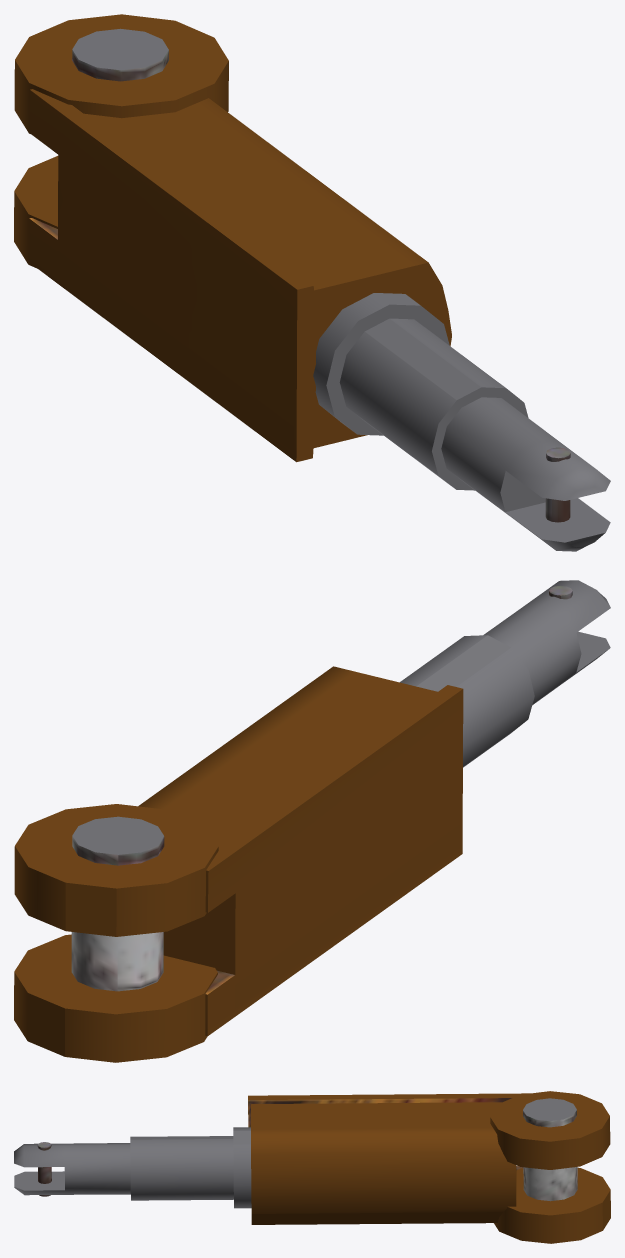
The model's file is handB.obj.
3 renders of one model, top to bottom at view 1: azimuth 30°, elevation 25°; view 2: azimuth 150°, elevation 25°; view 3: azimuth 270°, elevation 25°, orthographic. The views are drawn at different scales.
Parts seen in each view (by area): view 1: handB:hand_lowpolySurface397polySurface46, handB:hand_lowpolySurface397polySurface38, handB:hand_lowpolySurface397polySurface43, handB:hand_lowpolySurface397polySurface33, handB:hand_lowpolySurface397polySurface39, handB:hand_lowpolySurface397polySurface50, handB:hand_lowpolySurface397polySurface51, handB:hand_lowpolySurface397polySurface37, handB:hand_lowpolySurface397polySurface35, handB:hand_lowpolySurface397polySurface10, handB:hand_lowpolySurface397polySurface16, handB:hand_lowpolySurface397polySurface9 (+6 smaller); view 2: handB:hand_lowpolySurface397polySurface46, handB:hand_lowpolySurface397polySurface38, handB:hand_lowpolySurface397polySurface39, handB:hand_lowpolySurface397polySurface37, handB:hand_lowpolySurface397polySurface29, handB:hand_lowpolySurface397polySurface43, handB:hand_lowpolySurface397polySurface41, handB:hand_lowpolySurface397polySurface33, handB:hand_lowpolySurface397polySurface5, handB:hand_lowpolySurface397polySurface51, handB:hand_lowpolySurface397polySurface48, handB:hand_lowpolySurface397polySurface16 (+1 smaller); view 3: handB:hand_lowpolySurface397polySurface38, handB:hand_lowpolySurface397polySurface43, handB:hand_lowpolySurface397polySurface33, handB:hand_lowpolySurface397polySurface39, handB:hand_lowpolySurface397polySurface37, handB:hand_lowpolySurface397polySurface29, handB:hand_lowpolySurface397polySurface41, handB:hand_lowpolySurface397polySurface5, handB:hand_lowpolySurface397polySurface9, handB:hand_lowpolySurface397polySurface51, handB:hand_lowpolySurface397polySurface8, handB:hand_lowpolySurface397polySurface16 (+2 smaller).
Part boxes in pixels (x1,y1,x2,y2): handB:hand_lowpolySurface397polySurface46: [29, 90, 297, 461]; handB:hand_lowpolySurface397polySurface38: [84, 98, 428, 290]; handB:hand_lowpolySurface397polySurface43: [339, 318, 505, 485]; handB:hand_lowpolySurface397polySurface33: [441, 397, 610, 551]; handB:hand_lowpolySurface397polySurface39: [15, 14, 228, 106]; handB:hand_lowpolySurface397polySurface50: [313, 262, 451, 447]; handB:hand_lowpolySurface397polySurface51: [30, 89, 313, 289]; handB:hand_lowpolySurface397polySurface37: [14, 60, 228, 133]; handB:hand_lowpolySurface397polySurface35: [296, 286, 315, 462]; handB:hand_lowpolySurface397polySurface10: [326, 304, 449, 435]; handB:hand_lowpolySurface397polySurface16: [72, 28, 168, 70]; handB:hand_lowpolySurface397polySurface9: [313, 293, 420, 431]; handB:hand_lowpolySurface397polySurface46: [207, 689, 463, 1035]; handB:hand_lowpolySurface397polySurface38: [138, 666, 437, 1036]; handB:hand_lowpolySurface397polySurface39: [15, 804, 218, 888]; handB:hand_lowpolySurface397polySurface37: [14, 846, 218, 936]; handB:hand_lowpolySurface397polySurface29: [14, 972, 217, 1062]; handB:hand_lowpolySurface397polySurface43: [400, 635, 534, 767]; handB:hand_lowpolySurface397polySurface41: [14, 934, 217, 1014]; handB:hand_lowpolySurface397polySurface33: [483, 580, 610, 704]; handB:hand_lowpolySurface397polySurface5: [71, 836, 164, 991]; handB:hand_lowpolySurface397polySurface51: [206, 685, 462, 870]; handB:hand_lowpolySurface397polySurface48: [163, 893, 235, 974]; handB:hand_lowpolySurface397polySurface16: [72, 816, 163, 854]; handB:hand_lowpolySurface397polySurface38: [251, 1102, 516, 1224]; handB:hand_lowpolySurface397polySurface43: [130, 1136, 233, 1200]; handB:hand_lowpolySurface397polySurface33: [14, 1143, 130, 1195]; handB:hand_lowpolySurface397polySurface39: [490, 1091, 609, 1141]; handB:hand_lowpolySurface397polySurface37: [490, 1116, 610, 1169]; handB:hand_lowpolySurface397polySurface29: [494, 1190, 610, 1243]; handB:hand_lowpolySurface397polySurface41: [508, 1167, 610, 1215]; handB:hand_lowpolySurface397polySurface5: [523, 1110, 577, 1201]; handB:hand_lowpolySurface397polySurface9: [233, 1127, 251, 1208]; handB:hand_lowpolySurface397polySurface51: [248, 1093, 529, 1099]; handB:hand_lowpolySurface397polySurface8: [248, 1098, 511, 1127]; handB:hand_lowpolySurface397polySurface16: [523, 1098, 576, 1120].
Bounding box in the file's own units: 43.62 × 47.43 × 215.
3 materials, 1 textured.
